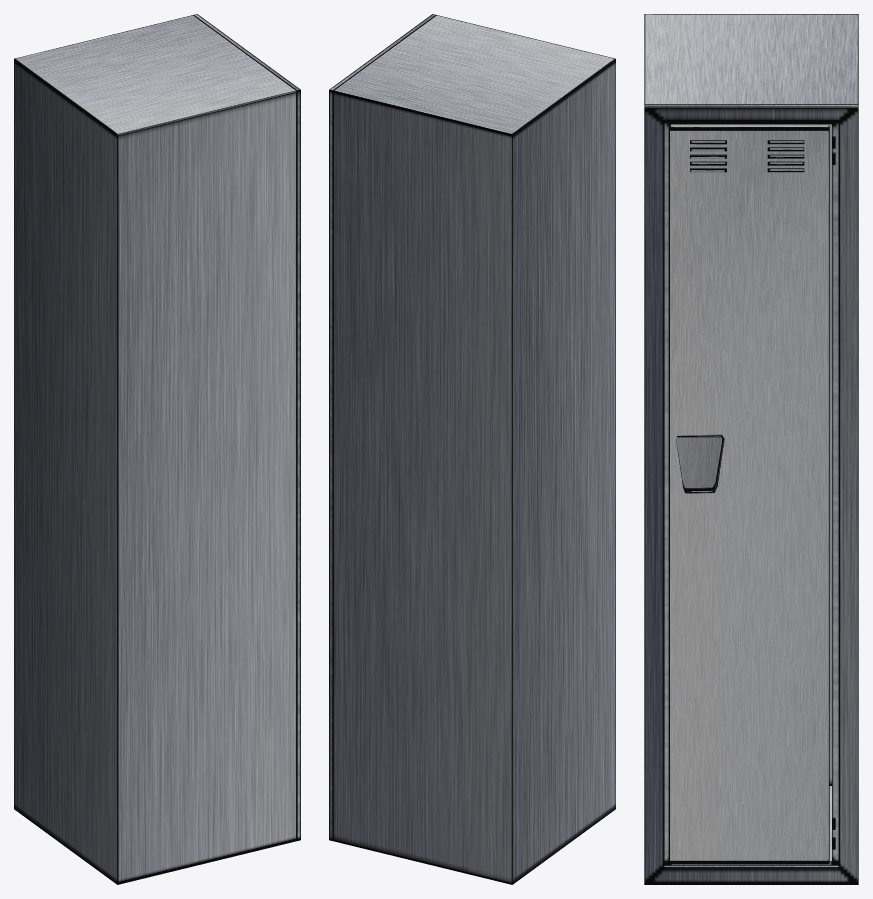
Rendered from Locker.fbx.
3 views of the same model, side by side, from view 1: azimuth 30°, elevation 25°; view 2: azimuth 150°, elevation 25°; view 3: azimuth 270°, elevation 25° (orthographic). The views are drawn at different scales.
Visible parts, largest first — view 1: Box; view 2: Box; view 3: Door, Box.
Part boxes in pixels (x1,y1,x2,y2): Box: (14, 14, 300, 884); Box: (329, 14, 615, 884); Door: (668, 125, 829, 864); Box: (644, 14, 858, 884).
Size of the model in its own units: 1.05 by 4 by 1.
